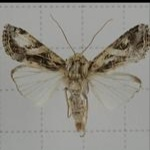Spodoptera litura: (0, 14, 149, 137)
